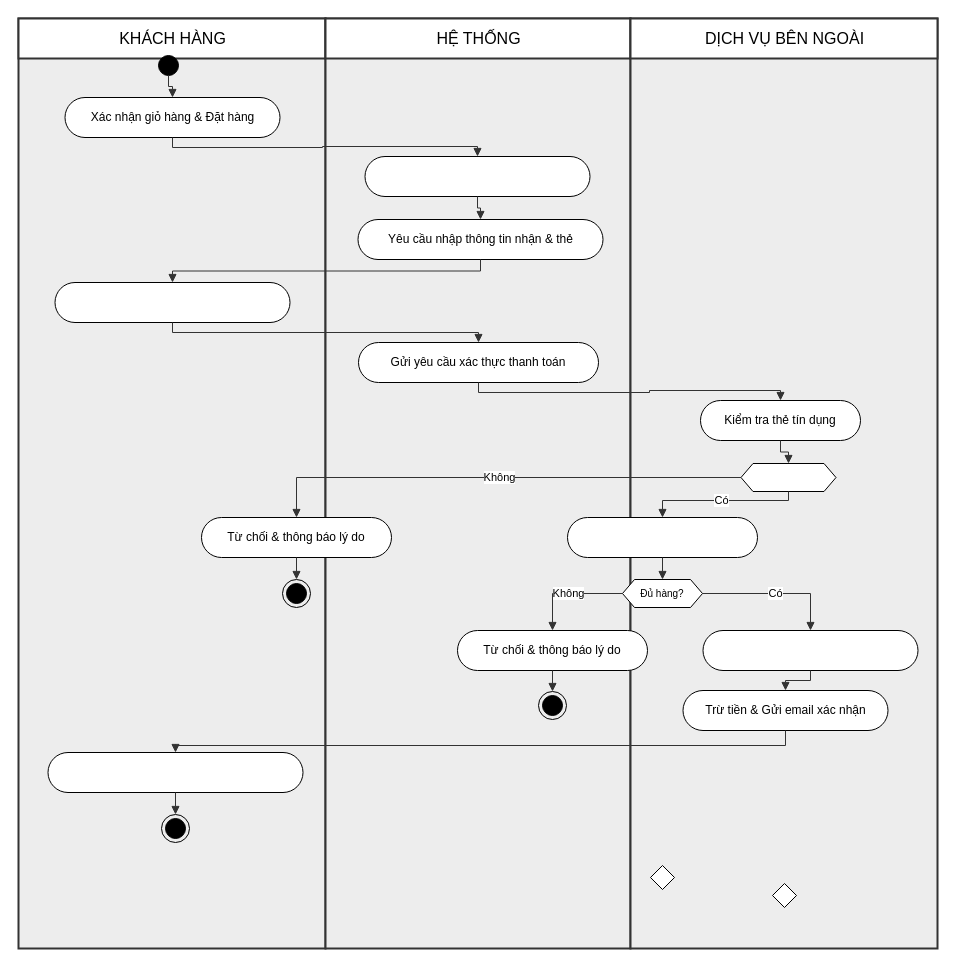
Some shapes in this 955 by 966 pixel diagram are drawn without their labels. Here are the shapes that lost their labels. From the top down, the centre of each, then its label:
At (x=477, y=176): "Tính tổng tiền & phí giao hàng".
At (x=172, y=302): "Cung cấp địa chỉ & thẻ tín dụng".
At (x=788, y=477): "Thẻ hợp lệ?".
At (x=662, y=537): "Kiểm tra số lượng tồn kho".
At (x=810, y=650): "Lưu DonHang và giảm tồn kho".
At (x=175, y=772): "Nhận thông báo đặt hàng thành công".
